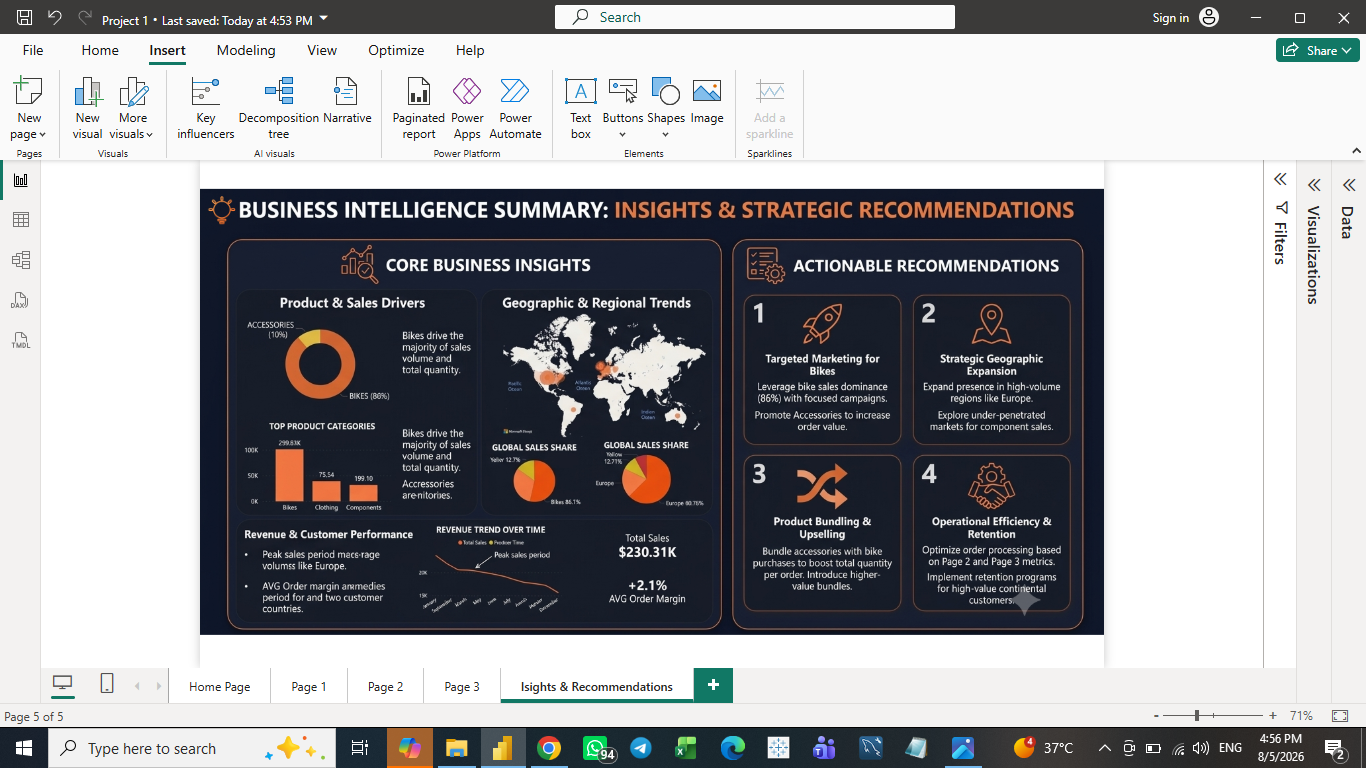

What the dashboard file says about the page in this screenshot:
{"tool":"powerbi","page":{"name":"Isights & Recommendations","canvas":[1280,720],"ordinal":4},"visuals":[{"type":"image","box":[0,14.2,62.4,39.7],"z":0}]}

Visuals, with their boxes on the page's 1280x720 design canvas (x1, y1, x2, y2). These are canvas units, not pixel positions in the 1366x768 screenshot, which may show the page scaled, cropped or inside an application window:
image: crop(0, 14, 62, 54)
